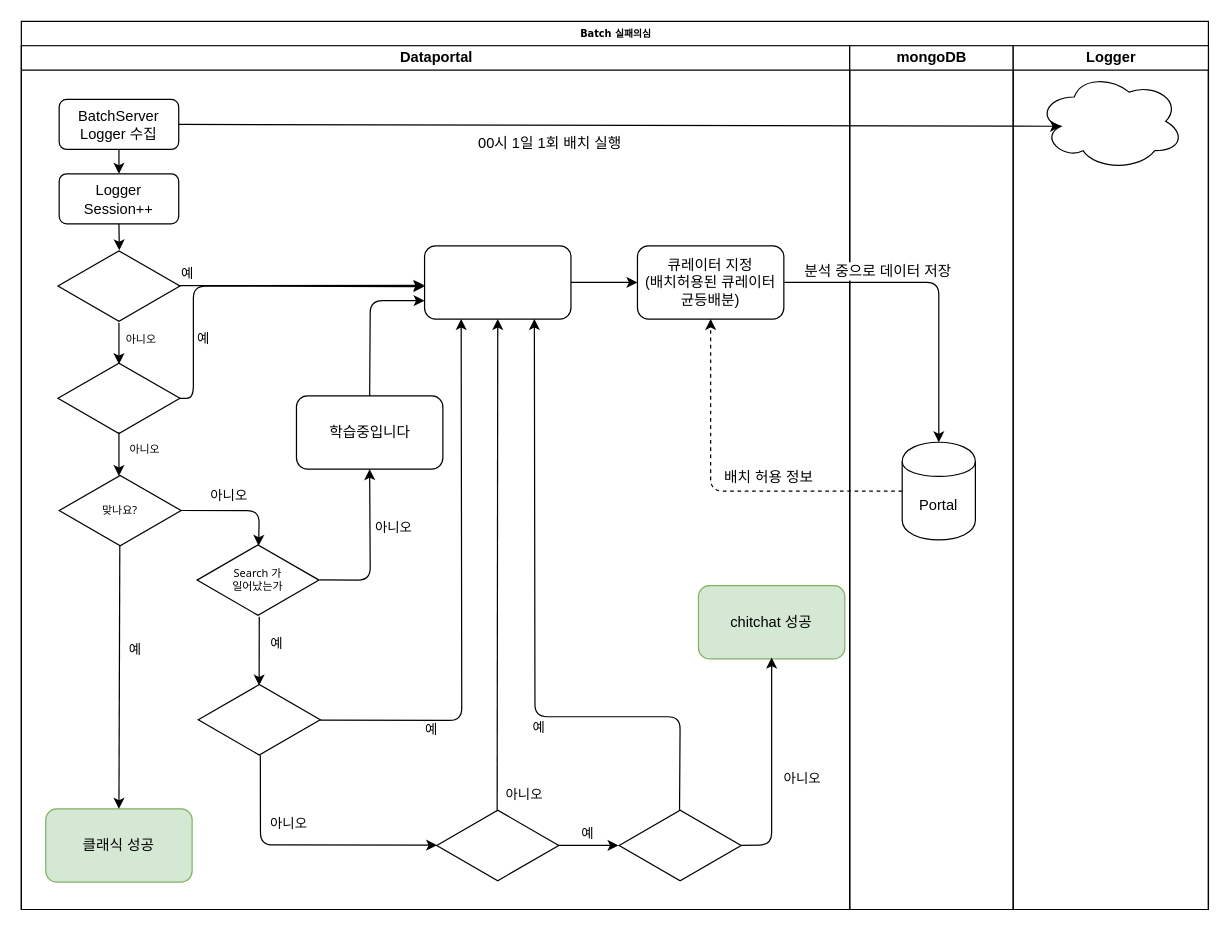
The diagram is 1230 pixels wide and 931 high, and some of its shapes have lost their labels. The shapes that lost their labels are listed below. From the top down, each one's box as (x1, y1, x2, y2) in pixels, then its label:
(1036, 71, 1184, 170): Logger Server
(57, 248, 180, 323): 상담사로 연결이 되었는가?
(423, 245, 571, 319): 실패의심 컨텐츠 확정
(57, 361, 180, 435): 상담사 가로채기가 일어났는가?
(197, 682, 320, 756): Search 중에 비슷한 증상이 없습니다를 선택하였는가?
(436, 808, 559, 882): 해결되셨나요?
(618, 808, 741, 882): 평가점수가 1점 혹은 2점인가?
